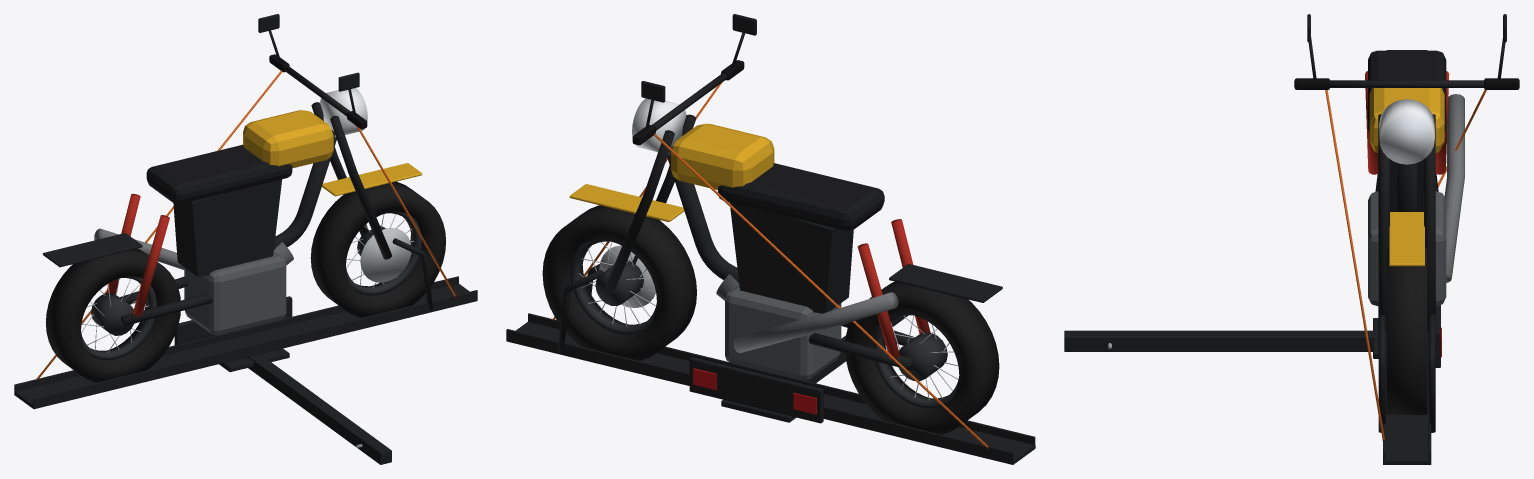
The model's file is carrier_weimall_monkey.glb.
3 renders of one model, left to right at view 1: azimuth 30°, elevation 25°; view 2: azimuth 150°, elevation 25°; view 3: azimuth 270°, elevation 25°, orthographic. The views are drawn at different scales.
Parts seen in each view (by area): view 1: motoFTyre.001, motoRTyre.001, motoSideCover.001, motoEngine.001, railFloor.001, motoSeat.001, motoTank, railSide1.001, shank.003, railSide-1.001, motoFDisc.001, motoRearGuard.001 (+18 smaller); view 2: motoFTyre.001, motoRTyre.001, motoSideCover.001, motoSeat.001, motoEngine.001, motoTank, railFloor.001, tailBoard.001, railSide-1.001, motoPipe.001, railSide1.001, motoRearGuard.001 (+17 smaller); view 3: shank.003, motoFTyre.001, motoPipe.001, motoSeat.001, railFloor.001, motoEngine.001, motoTank, motoGuard.001, motoFork1.001, motoFork-1.001, motoLampLens.001, motoLamp.001 (+7 smaller).
Part boxes in pixels (x1=…): motoFTyre.001: x1=310, y1=181, x2=445, y2=317; motoRTyre.001: x1=46, y1=248, x2=180, y2=382; motoSideCover.001: x1=173, y1=179, x2=281, y2=276; motoEngine.001: x1=184, y1=252, x2=286, y2=334; railFloor.001: x1=14, y1=283, x2=477, y2=409; motoSeat.001: x1=146, y1=144, x2=292, y2=203; motoTank: x1=243, y1=110, x2=333, y2=168; railSide1.001: x1=33, y1=290, x2=477, y2=406; shank.003: x1=248, y1=354, x2=391, y2=464; railSide-1.001: x1=14, y1=276, x2=458, y2=392; motoFDisc.001: x1=360, y1=228, x2=411, y2=282; motoRearGuard.001: x1=43, y1=233, x2=142, y2=267; motoFTyre.001: x1=542, y1=205, x2=696, y2=360; motoRTyre.001: x1=845, y1=281, x2=999, y2=434; motoSideCover.001: x1=730, y1=202, x2=853, y2=313; motoSeat.001: x1=718, y1=163, x2=884, y2=230; motoEngine.001: x1=725, y1=285, x2=841, y2=380; motoTank: x1=671, y1=123, x2=774, y2=189; railFloor.001: x1=506, y1=321, x2=1035, y2=464; tailBoard.001: x1=689, y1=357, x2=823, y2=423; railSide-1.001: x1=506, y1=329, x2=1013, y2=461; motoPipe.001: x1=733, y1=292, x2=898, y2=352; railSide1.001: x1=528, y1=313, x2=1035, y2=446; motoRearGuard.001: x1=889, y1=264, x2=1002, y2=302; shank.003: x1=1064, y1=330, x2=1378, y2=351; motoFTyre.001: x1=1386, y1=248, x2=1427, y2=414; motoPipe.001: x1=1444, y1=94, x2=1464, y2=282; motoSeat.001: x1=1368, y1=50, x2=1446, y2=132; railFloor.001: x1=1383, y1=331, x2=1431, y2=464; motoEngine.001: x1=1368, y1=191, x2=1446, y2=306; motoTank: x1=1369, y1=88, x2=1444, y2=152; motoGuard.001: x1=1389, y1=212, x2=1424, y2=266; motoFork1.001: x1=1378, y1=114, x2=1389, y2=331; motoFork-1.001: x1=1424, y1=114, x2=1435, y2=331; motoLampLens.001: x1=1382, y1=117, x2=1431, y2=161; motoLamp.001: x1=1379, y1=99, x2=1434, y2=164.
Size of the model in its own units: 1.92 by 1.24 by 1.39.
